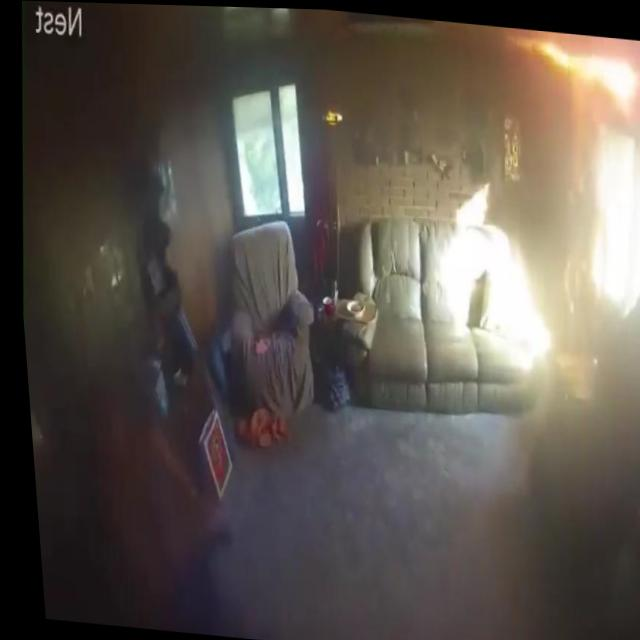fire: (515, 29, 640, 109)
